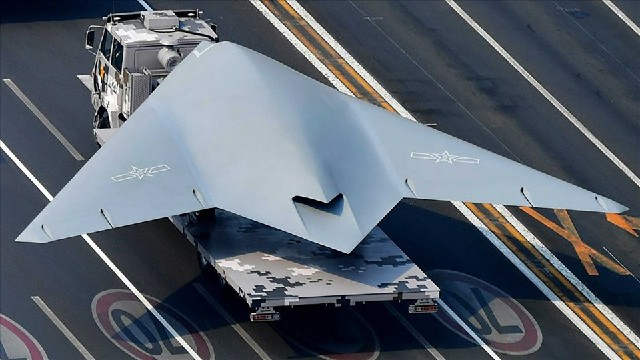maybay_khongnguoilai: (27, 39, 624, 258)
